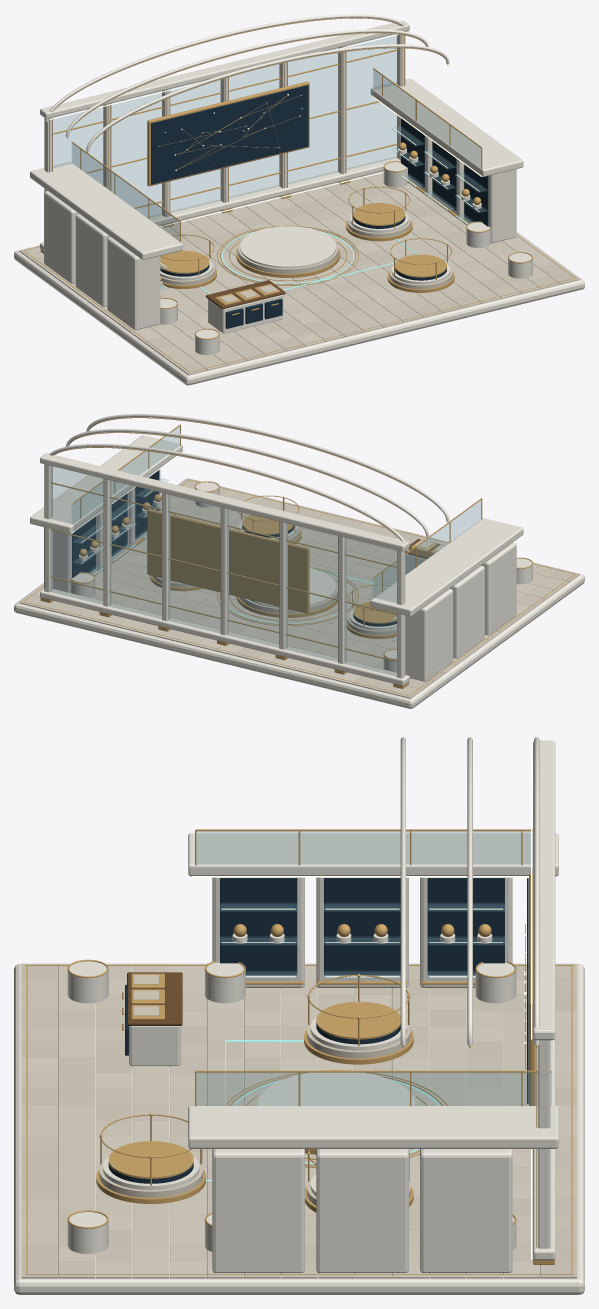
Rendered from gallery-v24.glb.
3 views of the same model, one above another, from view 1: azimuth 30°, elevation 25°; view 2: azimuth 150°, elevation 25°; view 3: azimuth 270°, elevation 25° (orthographic). The views are drawn at different scales.
Parts seen in each view (by area): view 1: Gallery / Porcelain enamel, Gallery / Blue glass, Gallery / Champagne brushed brass, Gallery / Midnight blue enamel, Gallery / Limestone tile 3, Gallery / Limestone tile 0, Gallery / Limestone tile 2, Gallery / Limestone tile 4, Gallery / Limestone tile 1, Gallery / Limestone tile 5, Gallery / Ivory limestone, Gallery / Warm recessed lighting (+1 smaller); view 2: Gallery / Porcelain enamel, Gallery / Blue glass, Gallery / Champagne brushed brass, Gallery / Limestone tile 0, Gallery / Limestone tile 1, Gallery / Limestone tile 2, Gallery / Limestone tile 3, Gallery / Limestone tile 4, Gallery / Limestone tile 5, Gallery / Midnight blue enamel, Gallery / Ivory limestone; view 3: Gallery / Porcelain enamel, Gallery / Blue glass, Gallery / Midnight blue enamel, Gallery / Champagne brushed brass, Gallery / Limestone tile 0, Gallery / Limestone tile 2, Gallery / Limestone tile 3, Gallery / Limestone tile 4, Gallery / Limestone tile 1, Gallery / Limestone tile 5, Gallery / Ivory limestone, Gallery / Warm recessed lighting (+1 smaller).
Boxes of the visible parts, left/top/right/bottom form: Gallery / Porcelain enamel: left=14, top=14, right=584, bottom=385; Gallery / Blue glass: left=53, top=34, right=487, bottom=290; Gallery / Champagne brushed brass: left=23, top=17, right=575, bottom=372; Gallery / Midnight blue enamel: left=151, top=85, right=488, bottom=328; Gallery / Limestone tile 3: left=75, top=186, right=520, bottom=366; Gallery / Limestone tile 0: left=30, top=171, right=579, bottom=375; Gallery / Limestone tile 2: left=19, top=173, right=540, bottom=370; Gallery / Limestone tile 4: left=53, top=183, right=556, bottom=356; Gallery / Limestone tile 1: left=39, top=172, right=568, bottom=360; Gallery / Limestone tile 5: left=132, top=187, right=545, bottom=353; Gallery / Ivory limestone: left=161, top=214, right=452, bottom=302; Gallery / Warm recessed lighting: left=49, top=31, right=482, bottom=287; Gallery / Porcelain enamel: left=14, top=414, right=584, bottom=708; Gallery / Blue glass: left=50, top=426, right=481, bottom=676; Gallery / Champagne brushed brass: left=23, top=417, right=575, bottom=695; Gallery / Limestone tile 0: left=38, top=478, right=579, bottom=690; Gallery / Limestone tile 1: left=19, top=495, right=545, bottom=693; Gallery / Limestone tile 2: left=78, top=488, right=559, bottom=698; Gallery / Limestone tile 3: left=95, top=492, right=568, bottom=665; Gallery / Limestone tile 4: left=42, top=496, right=500, bottom=679; Gallery / Limestone tile 5: left=31, top=505, right=537, bottom=684; Gallery / Midnight blue enamel: left=72, top=470, right=396, bottom=626; Gallery / Ivory limestone: left=152, top=524, right=444, bottom=635; Gallery / Porcelain enamel: left=14, top=737, right=584, bottom=1294; Gallery / Blue glass: left=196, top=831, right=551, bottom=1105; Gallery / Midnight blue enamel: left=108, top=878, right=528, bottom=1183; Gallery / Champagne brushed brass: left=25, top=829, right=573, bottom=1274; Gallery / Limestone tile 0: left=21, top=963, right=577, bottom=1278; Gallery / Limestone tile 2: left=21, top=963, right=577, bottom=1278; Gallery / Limestone tile 3: left=21, top=963, right=577, bottom=1278; Gallery / Limestone tile 4: left=58, top=963, right=577, bottom=1278; Gallery / Limestone tile 1: left=21, top=963, right=577, bottom=1278; Gallery / Limestone tile 5: left=21, top=963, right=577, bottom=1278; Gallery / Ivory limestone: left=99, top=975, right=418, bottom=1205; Gallery / Warm recessed lighting: left=192, top=751, right=532, bottom=1259.
Size of the model in its own units: 20.4 by 9.22 by 15.4.
